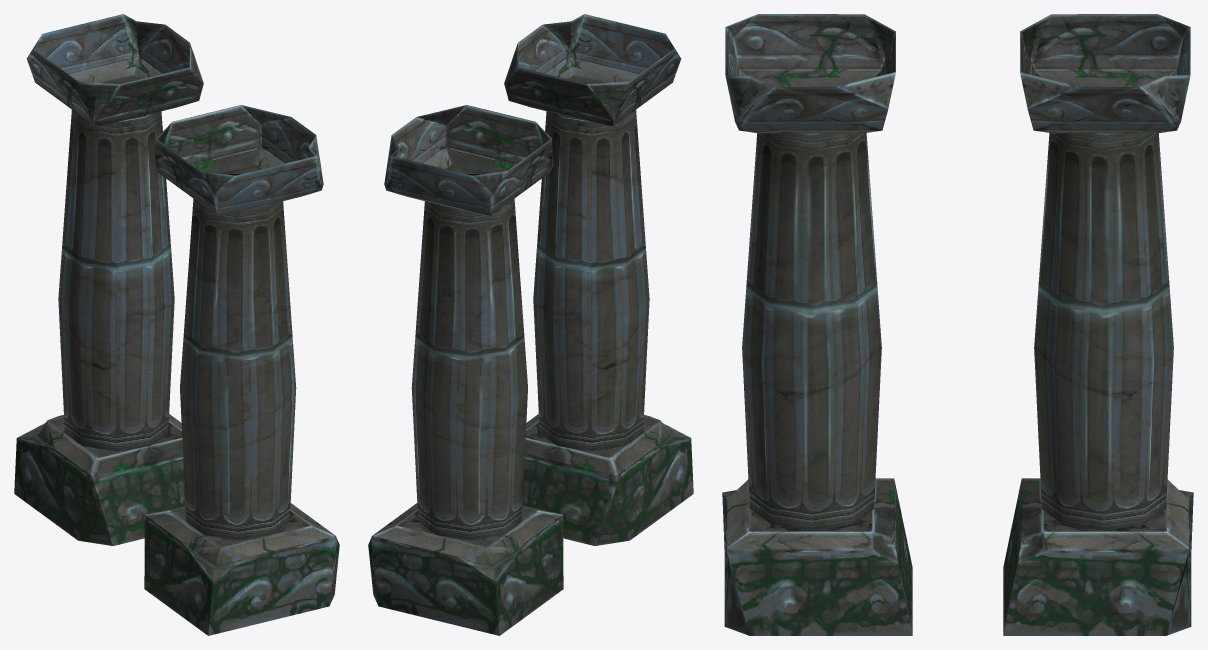
File: stemple_bridge_pillar_02.fbx
The picture shows the model from 3 angles, left to right: view 1: azimuth 30°, elevation 25°; view 2: azimuth 150°, elevation 25°; view 3: azimuth 270°, elevation 25°; orthographic projection. The views are drawn at different scales.
Parts seen in each view (by area): view 1: sunken_tileset/sunken_wall_convex02_mat; view 2: sunken_tileset/sunken_wall_convex02_mat; view 3: sunken_tileset/sunken_wall_convex02_mat.
Boxes of the visible parts, x1,y1,x2,y2 form: sunken_tileset/sunken_wall_convex02_mat: (14, 14, 339, 635); sunken_tileset/sunken_wall_convex02_mat: (368, 14, 693, 635); sunken_tileset/sunken_wall_convex02_mat: (722, 14, 1193, 635).
Size of the model in its own units: 1.75 by 5.55 by 4.35.
